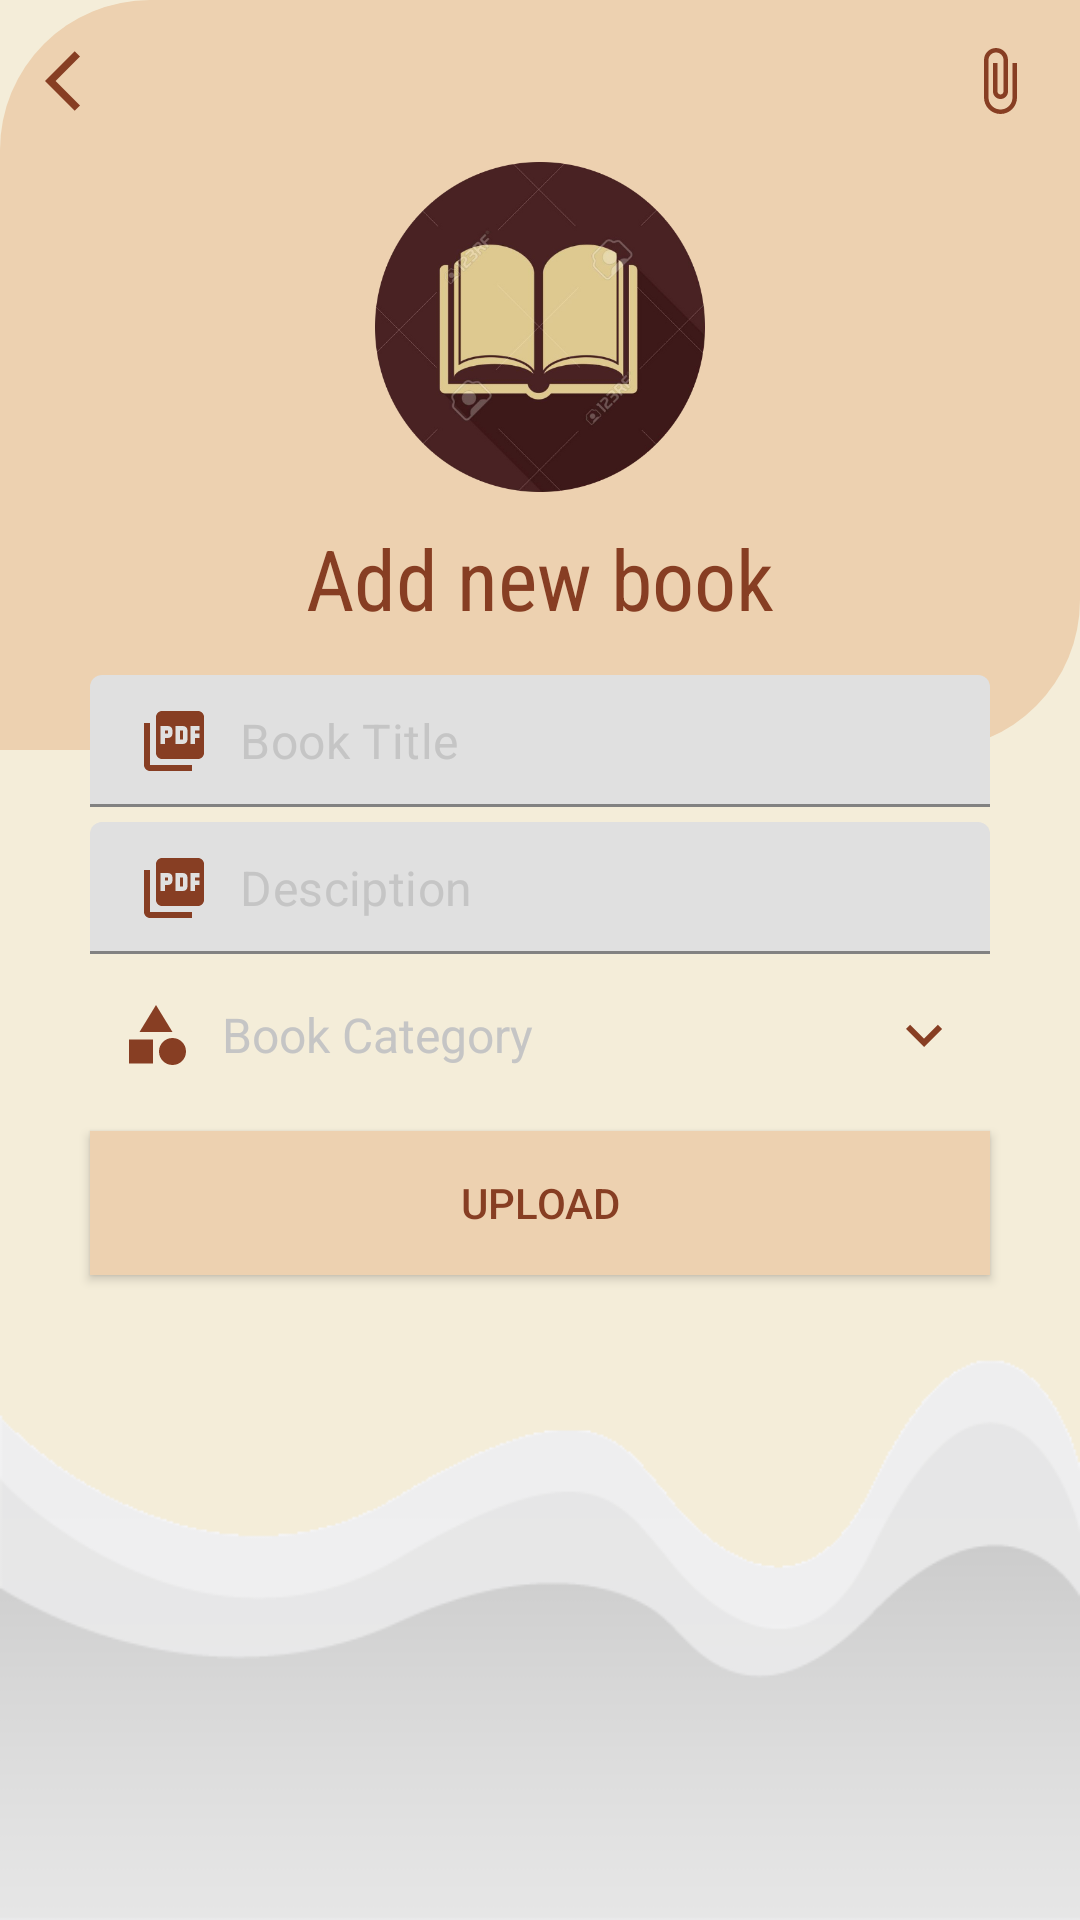

Icons on this 1080w x 1920h Android screen, each with the point to tap as point (x, y):
arrow back: point (62, 81)
attach file: point (1000, 81)
